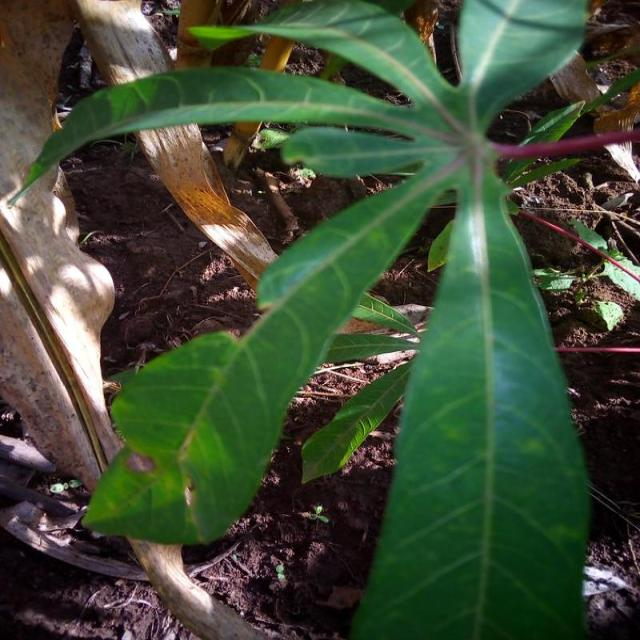cassava leaf: (19, 0, 604, 637), (347, 162, 591, 638)
